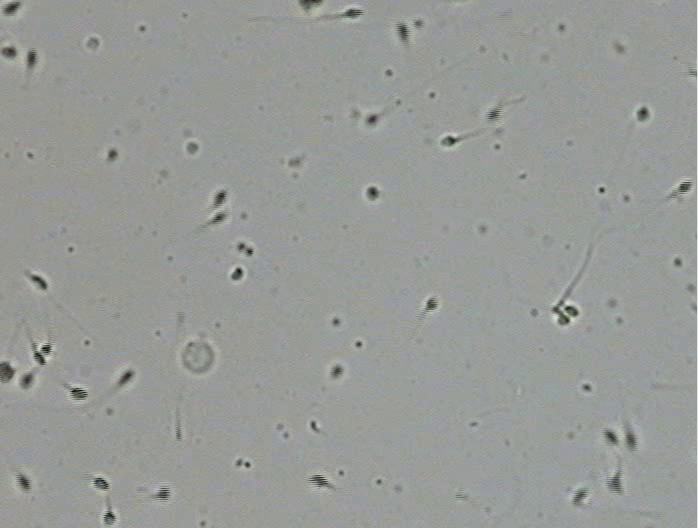Impurity: (181, 341, 215, 373), (85, 37, 100, 50)
S: (605, 474, 623, 495), (29, 274, 48, 291), (602, 427, 619, 446), (308, 474, 330, 488), (394, 22, 410, 41), (212, 190, 227, 210), (15, 474, 32, 491), (1, 361, 14, 383), (623, 430, 637, 449), (154, 486, 170, 502), (571, 487, 587, 503), (32, 349, 47, 366), (92, 477, 110, 491), (26, 48, 38, 68), (3, 1, 20, 15), (210, 211, 227, 225), (343, 8, 364, 19), (119, 370, 134, 385), (636, 105, 649, 122), (70, 388, 88, 400), (20, 373, 34, 388), (103, 510, 117, 525), (1, 47, 17, 59), (299, 1, 323, 9), (440, 136, 457, 147), (487, 108, 500, 122), (186, 142, 199, 155), (231, 267, 244, 280), (330, 365, 343, 378), (366, 187, 379, 200), (426, 297, 438, 311), (678, 181, 692, 193), (40, 343, 52, 356), (564, 306, 579, 316), (107, 148, 118, 161), (557, 314, 570, 325), (367, 114, 377, 124)
